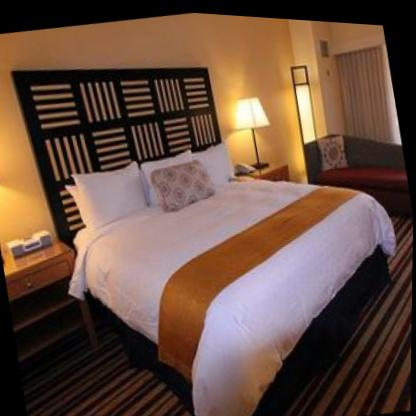Bed: (61, 139, 400, 416)
